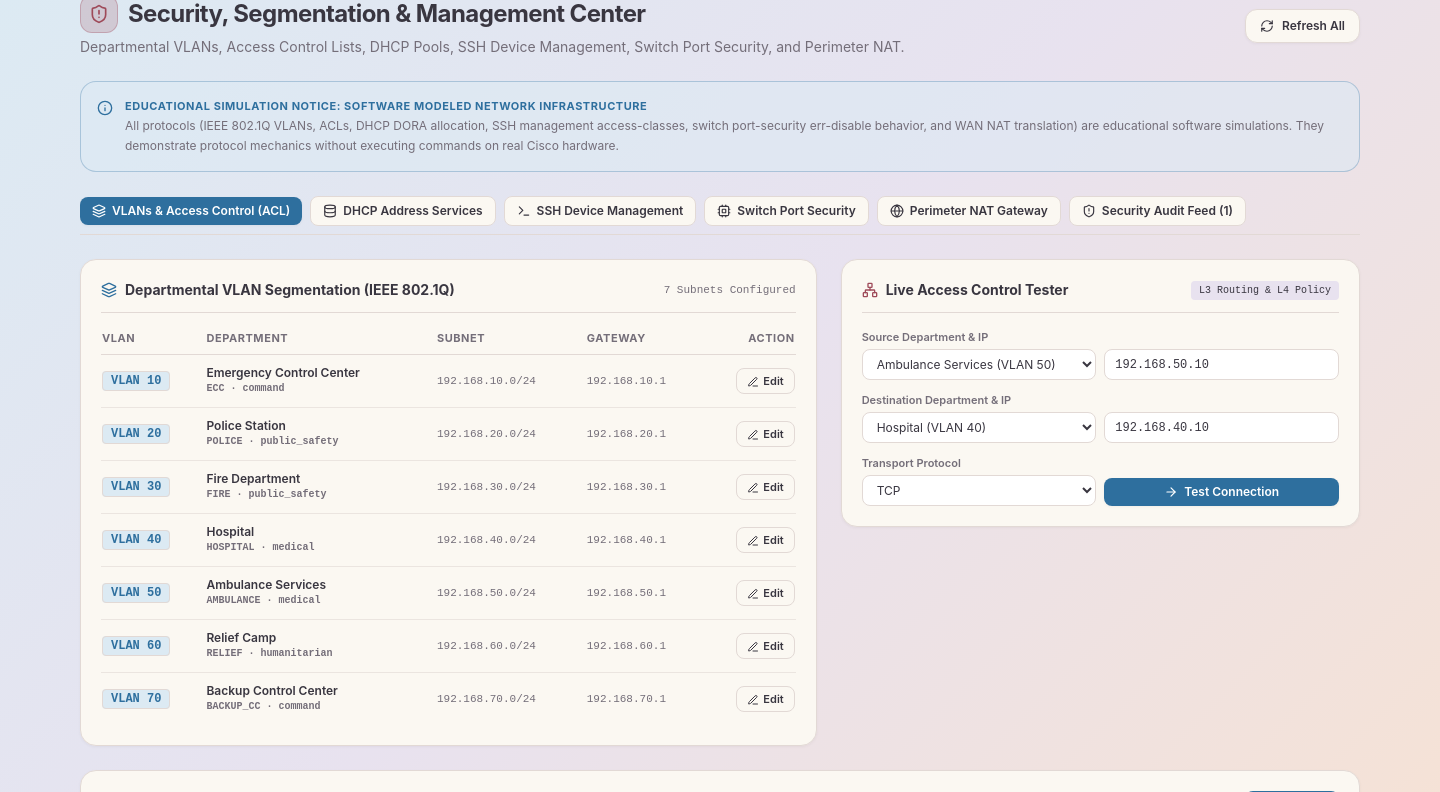
Test: AlertsPage - Security, Segmentation & Management Hub › switches to NAT tab and verifies private-to-public translation and internal direct-routing notice
The width and height of the screenshot is (1440, 792).
Click the button "Perimeter NAT Gateway".
click(969, 211)  # box [877,196,1061,226]
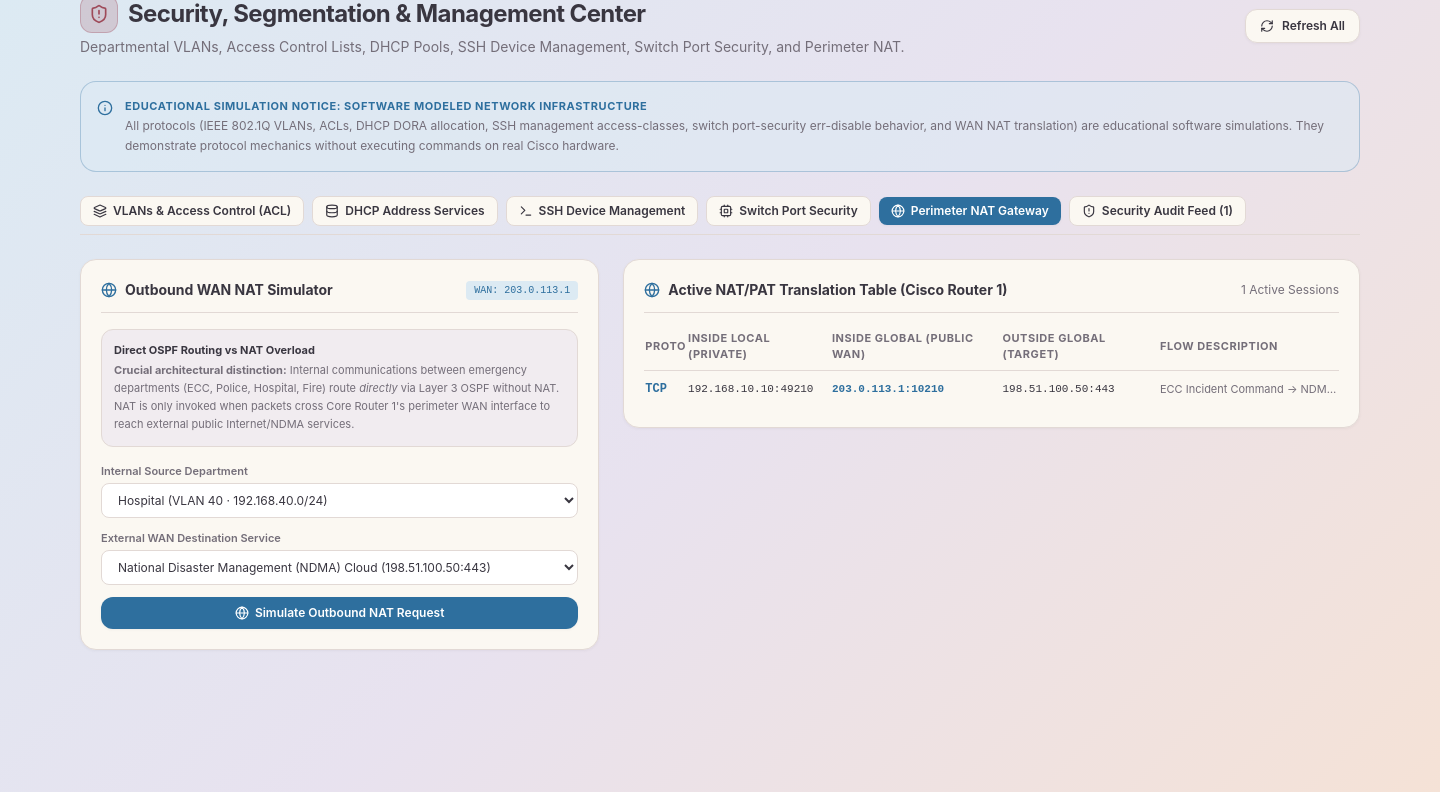
Now the heading "Outbound WAN NAT Simulator" is shown, box [125,280,333,300]
Now the text "Direct OSPF Routing vs NAT Overload" is shown, box [114,343,315,357]
Click the button "Simulate Outbound NAT Request".
click(340, 612)  # box [101,596,578,628]
(page scrolled)
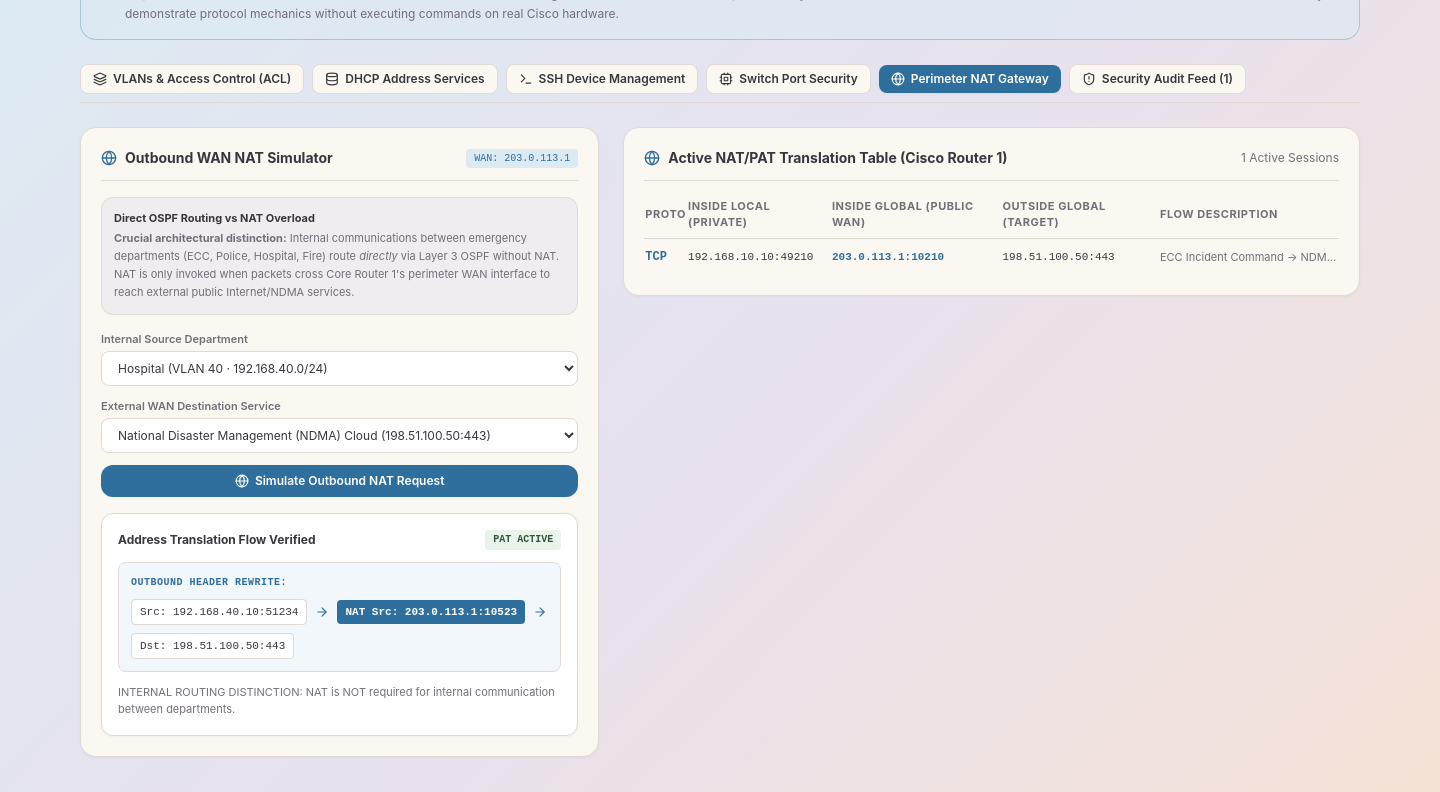
Now the text "Address Translation Flow Verified" is shown, box [118,532,316,548]
Now the text "NAT Src: 203.0.113.1:10523" is shown, box [337,600,525,624]
Now the text "NAT is NOT required for internal communication between departments" is shown, box [118,684,555,716]
